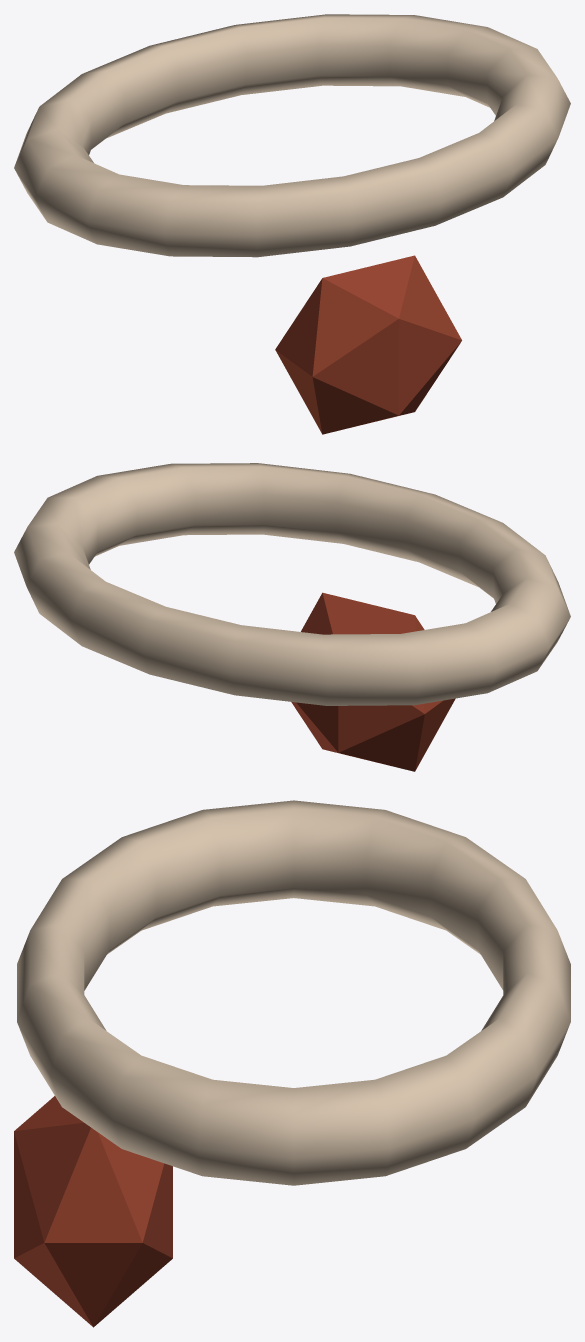
The model's file is wearable.glb.
The picture shows the model from 3 angles, top to bottom: view 1: azimuth 30°, elevation 25°; view 2: azimuth 150°, elevation 25°; view 3: azimuth 270°, elevation 25°; orthographic projection. The views are drawn at different scales.
Visible parts, largest first — view 1: wearable_band, wearable_charm; view 2: wearable_band, wearable_charm; view 3: wearable_band, wearable_charm.
Boxes of the visible parts, <box> form: wearable_band: <box>14,14,570,257</box>; wearable_charm: <box>275,255,461,434</box>; wearable_band: <box>14,463,570,705</box>; wearable_charm: <box>291,592,455,771</box>; wearable_band: <box>17,800,570,1185</box>; wearable_charm: <box>14,1096,172,1327</box>.
Size of the model in its own units: 0.702 by 0.3459 by 0.5003.
